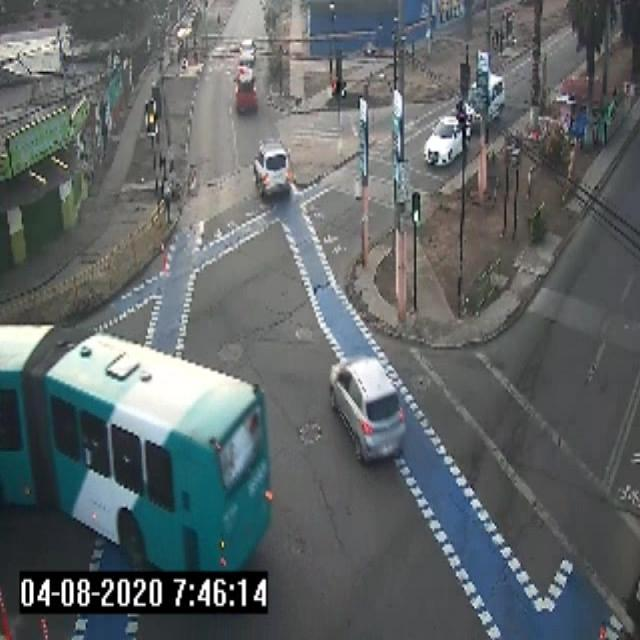AB: (1, 302, 286, 590)
